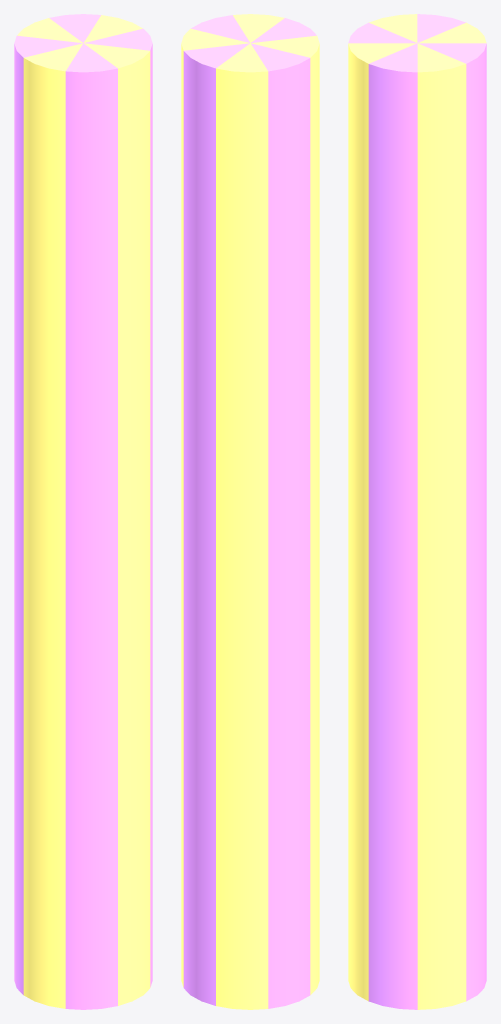
3 renders of one model, left to right at view 1: azimuth 30°, elevation 25°; view 2: azimuth 150°, elevation 25°; view 3: azimuth 270°, elevation 25°, orthographic.
Parts seen in each view (by area): view 1: model_8; view 2: model_8; view 3: model_8.
Boxes of the visible parts, bbox=[...] form: model_8: bbox=[14, 14, 152, 1009]; model_8: bbox=[181, 14, 319, 1009]; model_8: bbox=[348, 14, 486, 1009].
Bounding box in the file's own units: 0.0508 × 0.38 × 0.0508.
